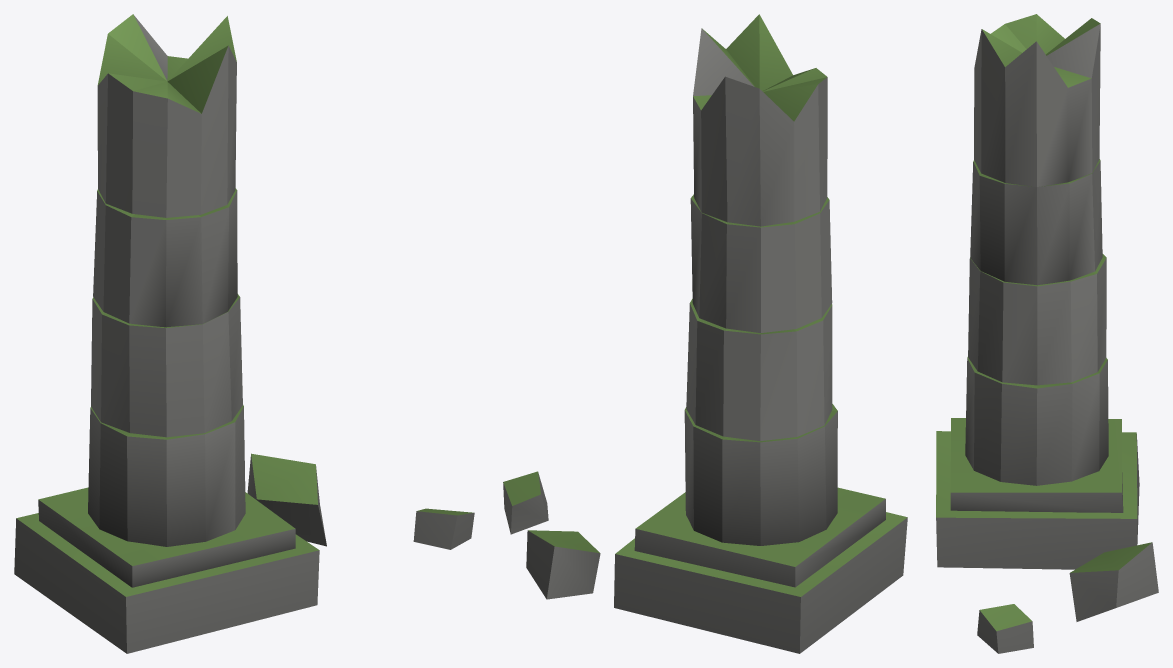
File: obj_columna_2.glb
3 views of the same model, side by side, from view 1: azimuth 30°, elevation 25°; view 2: azimuth 150°, elevation 25°; view 3: azimuth 270°, elevation 25° (orthographic). The views are drawn at different scales.
Visible parts, largest first — view 1: propforge-libre-columna; view 2: propforge-libre-columna; view 3: propforge-libre-columna.
Part boxes in pixels (left/top/right/bottom): propforge-libre-columna: left=14, top=14, right=474, bottom=653; propforge-libre-columna: left=503, top=14, right=907, bottom=653; propforge-libre-columna: left=936, top=14, right=1158, bottom=653.
Bounding box in the file's own units: 0.7552 × 1.09 × 0.4173.
